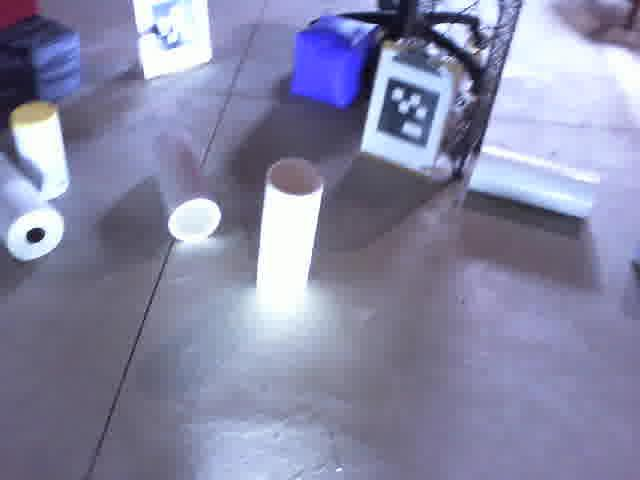coral: (253, 150, 327, 315), (465, 141, 604, 223), (140, 125, 227, 244)
